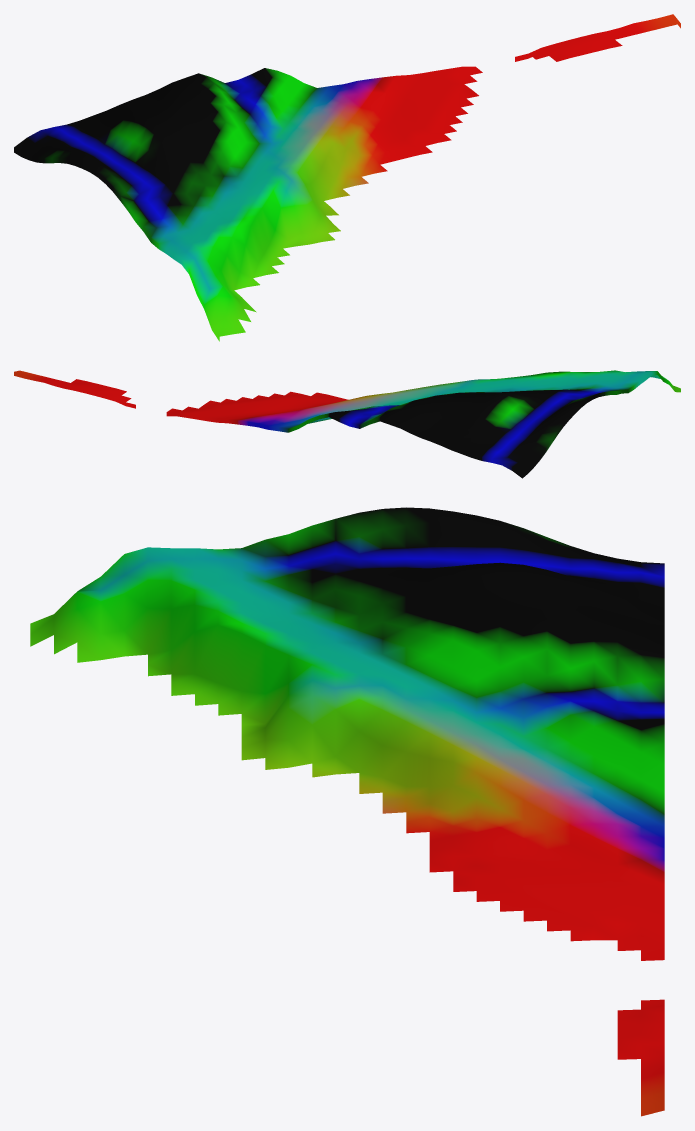
The model's file is coast_11_14.glb.
3 views of the same model, one above another, from view 1: azimuth 30°, elevation 25°; view 2: azimuth 150°, elevation 25°; view 3: azimuth 270°, elevation 25° (orthographic). The views are drawn at different scales.
Parts seen in each view (by area): view 1: terrain; view 2: terrain; view 3: terrain.
Part boxes in pixels (bbox=[...]): terrain: bbox=[14, 14, 680, 341]; terrain: bbox=[14, 370, 680, 478]; terrain: bbox=[30, 507, 664, 1116].
Size of the model in its own units: 200 by 24.11 by 108.
